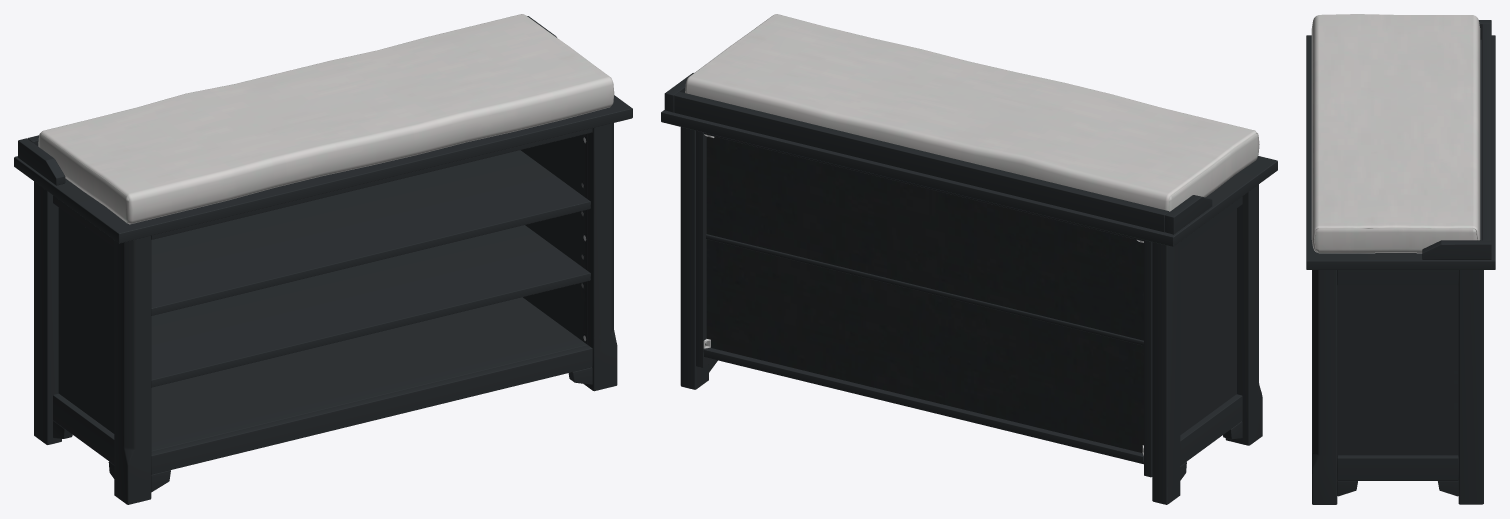
Rendered from bench_abo_B07DBHFDSQ.glb.
3 views of the same model, side by side, from view 1: azimuth 30°, elevation 25°; view 2: azimuth 150°, elevation 25°; view 3: azimuth 270°, elevation 25° (orthographic). The views are drawn at different scales.
Parts seen in each view (by area): view 1: RootNode; view 2: RootNode; view 3: RootNode.
Boxes of the visible parts, bbox=[...] form: RootNode: bbox=[14, 14, 632, 504]; RootNode: bbox=[661, 14, 1277, 504]; RootNode: bbox=[1306, 14, 1495, 504].
Size of the model in its own units: 0.9727 by 0.5613 by 0.3446.
Materials: 1 (1 with a texture image).
